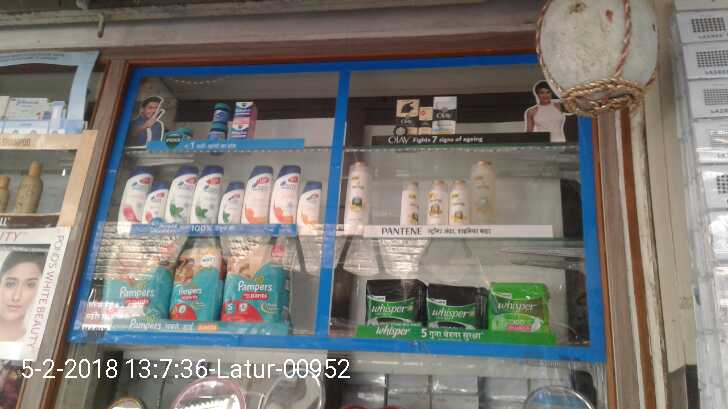beauty: (115, 167, 148, 230), (271, 161, 301, 227), (167, 160, 192, 226), (243, 158, 268, 224), (194, 160, 218, 224), (471, 157, 492, 226), (349, 159, 368, 226), (216, 175, 239, 224), (398, 174, 419, 224), (298, 176, 317, 228), (425, 173, 446, 220), (432, 93, 457, 129), (449, 174, 467, 222), (147, 178, 164, 224), (398, 97, 417, 133)
pharmacy: (222, 244, 292, 330), (103, 238, 168, 322), (170, 241, 218, 323), (487, 281, 549, 328), (424, 285, 484, 328), (364, 280, 422, 324), (228, 99, 260, 141), (203, 99, 225, 139)
